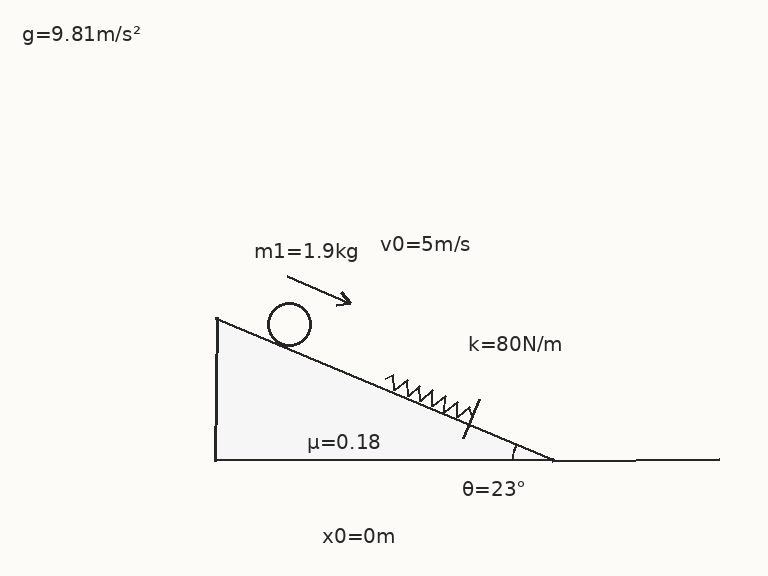ball: (265, 300, 313, 348)
ramp: (214, 315, 555, 462)
spring: (383, 373, 474, 419)
